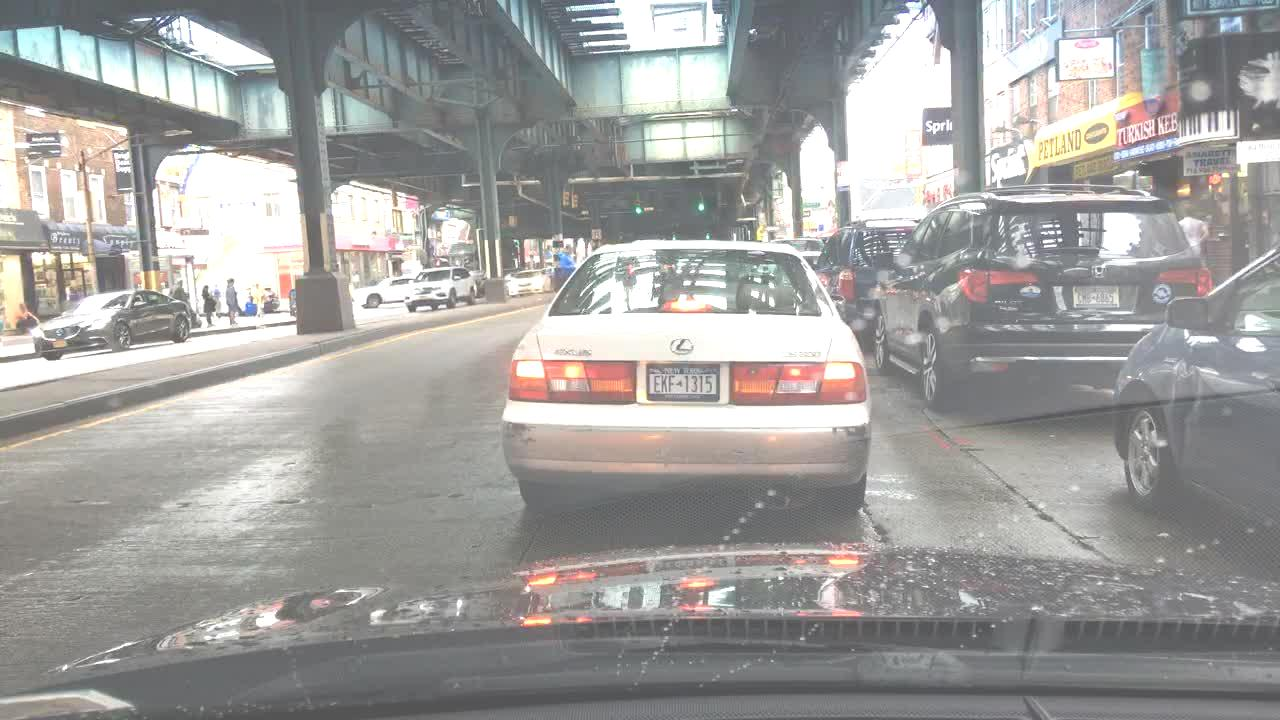Honda: (1091, 263, 1111, 284)
lexus: (658, 332, 700, 362)
